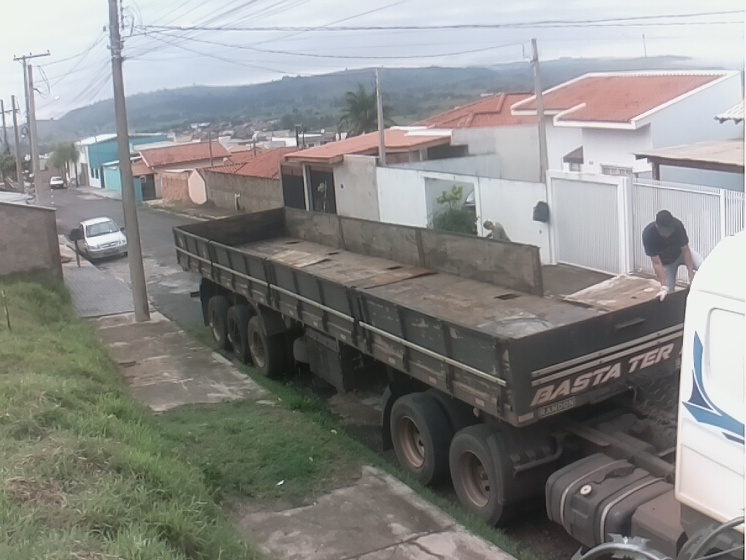person: (641, 209, 705, 302), (481, 219, 510, 244)
